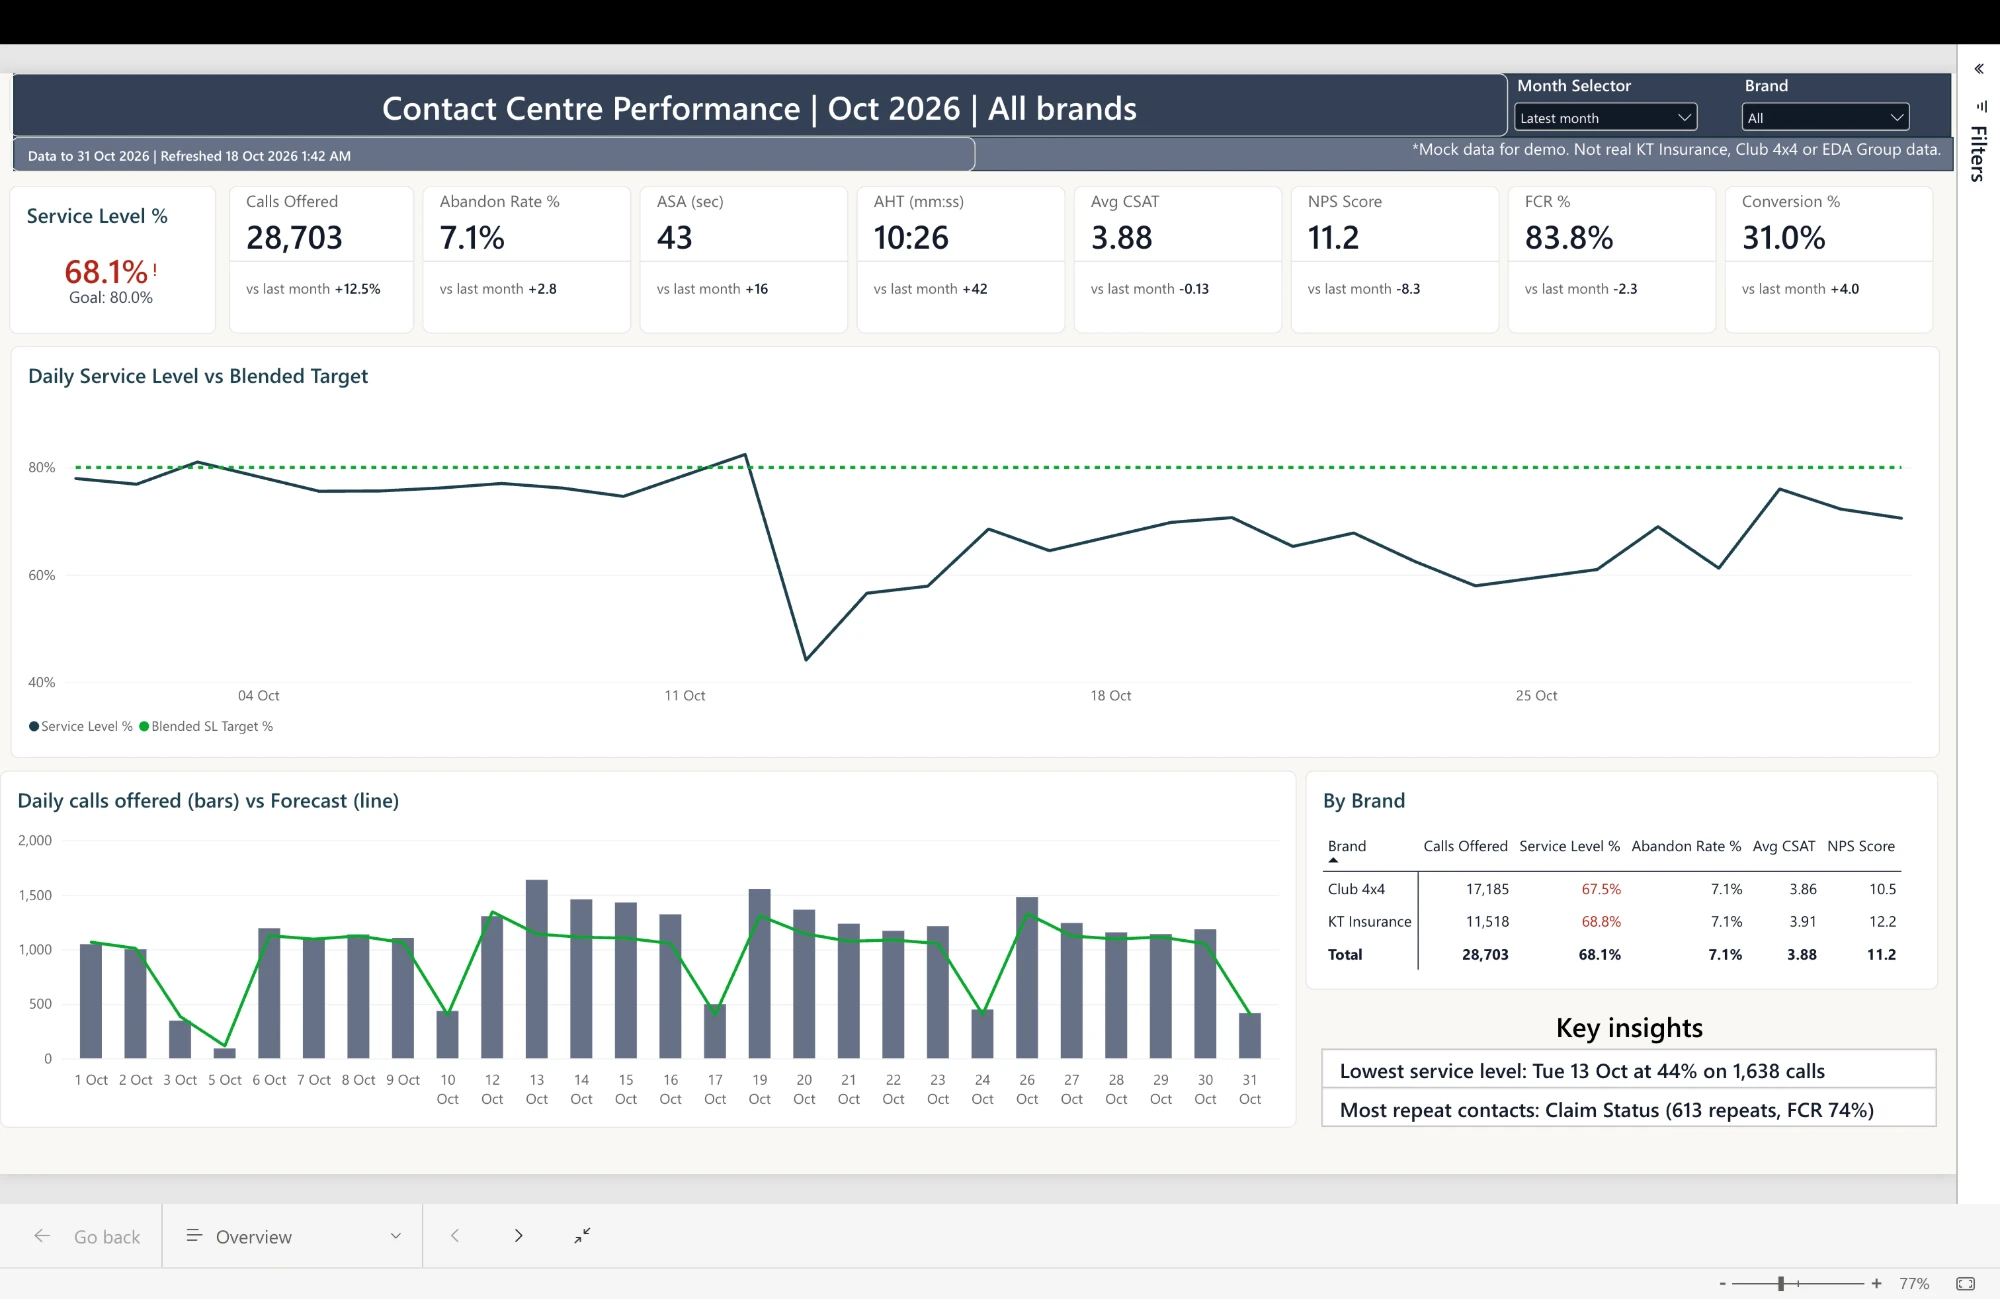

The dashboard page shown, as its layout file describes it:
{"tool":"powerbi","page":{"name":"Overview","canvas":[1920,1080],"ordinal":0},"visuals":[{"type":"shape","title":"Accent Bg","box":[13.4,62.5,1904.4,33.5],"z":0},{"type":"shape","title":"Header Bg","box":[13.4,0,1902.1,62.5],"z":1000},{"type":"cardVisual","fields":{"Data":["Calls.Abandon Rate %","Calls.ASA (sec)","Calls.AHT (mm:ss)","Surveys.Avg CSAT","Surveys.NPS Score","Interactions.FCR %","Interactions.Conversion %"]},"box":[394.7,110.7,1525.3,145.7],"z":2000},{"type":"lineClusteredColumnComboChart","title":"Daily calls offered (bars) vs Forecast (line)","fields":{"Category":["Date.Date"],"Y":["Calls.Calls Offered"],"Y2":["Forecast.Forecast Offered"]},"box":[0,683.8,1272.4,350.5],"z":3000},{"type":"lineChart","title":"Daily Service Level vs Blended Target","fields":{"Category":["Date.Date"],"Y":["Calls.Service Level %","Calls.Blended SL Target %"]},"box":[9.9,267.9,1893.7,404.4],"z":4000},{"type":"cardVisual","title":"Key insights","fields":{"Data":["Calls.Worst SL Day","Calls.Top Repeat Reason"]},"box":[1297.1,916.2,605,118],"z":5000},{"type":"cardVisual","fields":{"Data":["Calls.Calls Offered"]},"box":[225,110.7,182.6,145.7],"z":6000},{"type":"kpi","title":"Service Level %","fields":{"Goal":["Calls.Blended SL Target %"],"Indicator":["Calls.Service Level %"],"TrendLine":["Date.Reporting Month"]},"box":[9.2,110.7,202.9,145.7],"z":7000},{"type":"pivotTable","title":"\tBy Brand","fields":{"Rows":["Queue.Brand"],"Values":["Calls.Calls Offered","Calls.Service Level %","Calls.Abandon Rate %","Surveys.Avg CSAT","Surveys.NPS Score"]},"box":[1281.9,683.8,621,215.2],"z":8000},{"type":"cardVisual","fields":{"Data":["Calls.Report Title"]},"box":[8.9,0,1471.8,62.7],"z":9000},{"type":"slicer","fields":{"Values":["Date.Month Selector"]},"box":[1481,0,190,62.7],"z":10000},{"type":"slicer","fields":{"Values":["Queue.Brand"]},"box":[1704.2,0,175.2,62.7],"z":11000},{"type":"cardVisual","fields":{"Data":["Calls.Data As At"]},"box":[10.1,62.3,947.3,34.2],"z":12000},{"type":"textbox","box":[961.3,62.3,943.2,34.2],"z":12001}]}

Visuals, with their boxes on the page's 1920x1080 design canvas (x1, y1, x2, y2). These are canvas units, not pixel positions in the 2000x1299 screenshot, which may show the page scaled, cropped or inside an application window:
"Accent Bg" shape: [x1=13, y1=62, x2=1918, y2=96]
"Header Bg" shape: [x1=13, y1=0, x2=1916, y2=62]
cardVisual - Calls.Abandon Rate % x Calls.ASA (sec): [x1=395, y1=111, x2=1920, y2=256]
"Daily calls offered (bars) vs Forecast (line)" lineClusteredColumnComboChart: [x1=0, y1=684, x2=1272, y2=1034]
"Daily Service Level vs Blended Target" lineChart: [x1=10, y1=268, x2=1904, y2=672]
"Key insights" cardVisual: [x1=1297, y1=916, x2=1902, y2=1034]
cardVisual - Calls.Calls Offered: [x1=225, y1=111, x2=408, y2=256]
"Service Level %" kpi: [x1=9, y1=111, x2=212, y2=256]
"	By Brand" pivotTable: [x1=1282, y1=684, x2=1903, y2=899]
cardVisual - Calls.Report Title: [x1=9, y1=0, x2=1481, y2=63]
slicer - Date.Month Selector: [x1=1481, y1=0, x2=1671, y2=63]
slicer - Queue.Brand: [x1=1704, y1=0, x2=1879, y2=63]
cardVisual - Calls.Data As At: [x1=10, y1=62, x2=957, y2=96]
textbox: [x1=961, y1=62, x2=1904, y2=96]
